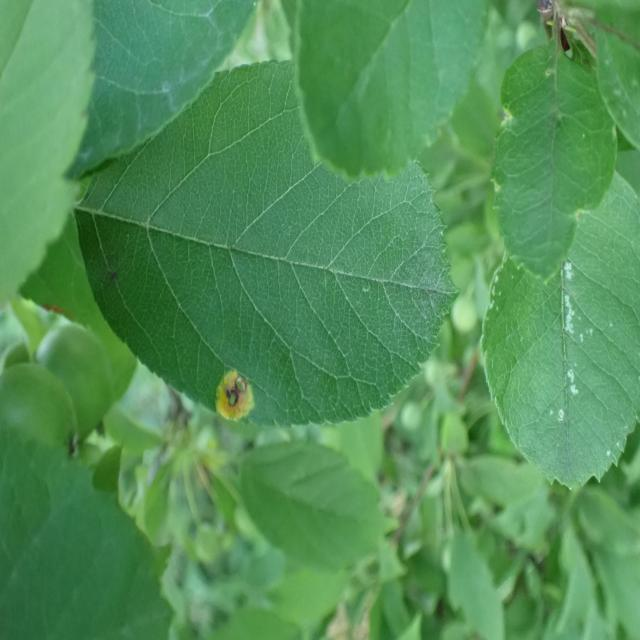rust: (73, 59, 460, 430)
